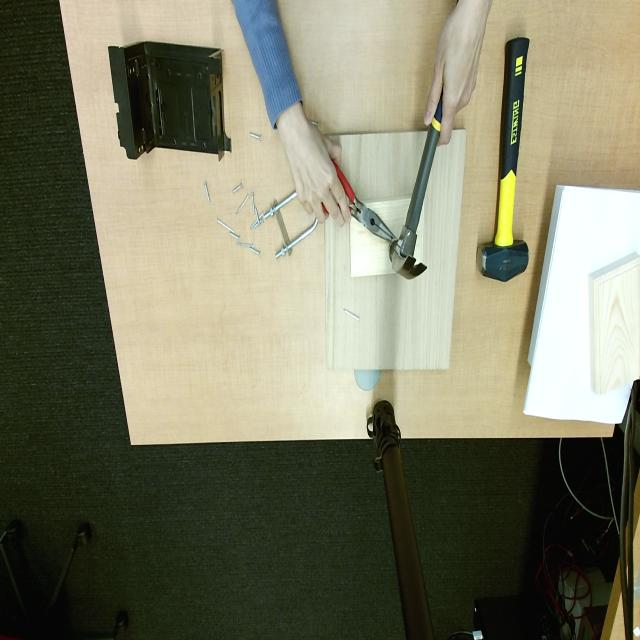hammer: (478, 38, 529, 282), (389, 93, 442, 280)
pliers: (332, 161, 396, 242)
